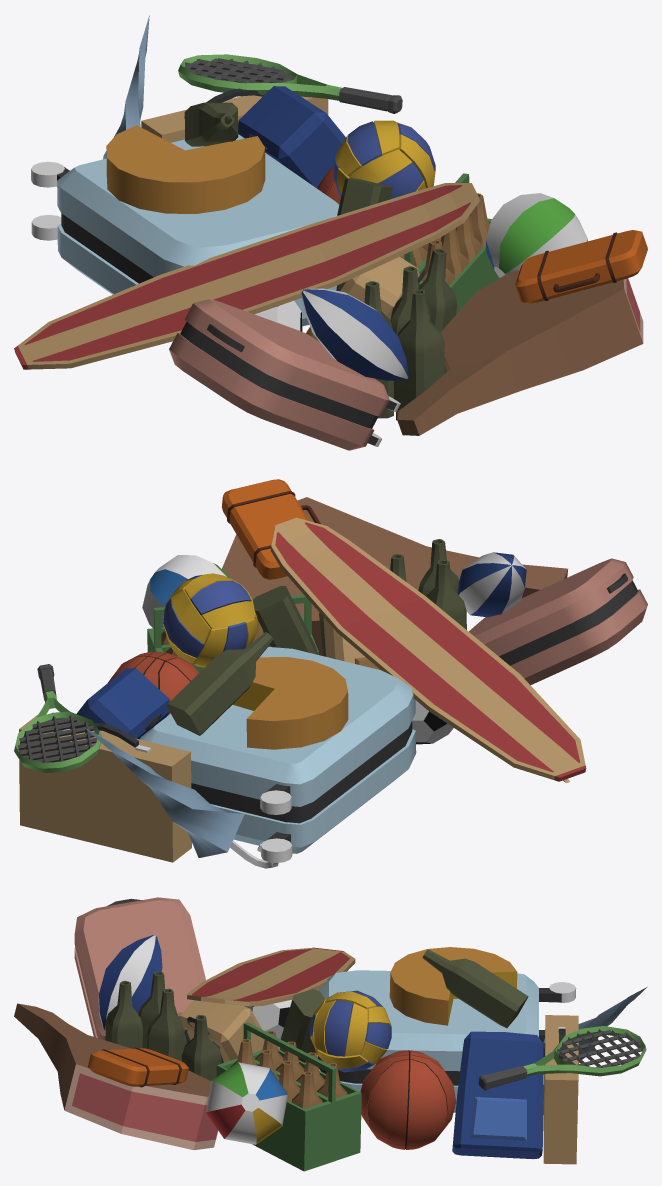
Rendered from Groupe_Bagage_15.fbx.
3 renders of one model, top to bottom at view 1: azimuth 30°, elevation 25°; view 2: azimuth 150°, elevation 25°; view 3: azimuth 270°, elevation 25°, orthographic. The views are drawn at different scales.
Parts seen in each view (by area): view 1: Groupe_Bagage_15; view 2: Groupe_Bagage_15; view 3: Groupe_Bagage_15.
Boxes of the visible parts, bbox=[...] form: Groupe_Bagage_15: bbox=[14, 15, 647, 450]; Groupe_Bagage_15: bbox=[14, 479, 647, 868]; Groupe_Bagage_15: bbox=[14, 897, 646, 1171].
Size of the model in its own units: 240 by 84.92 by 321.
Materials: 1 (1 with a texture image).
